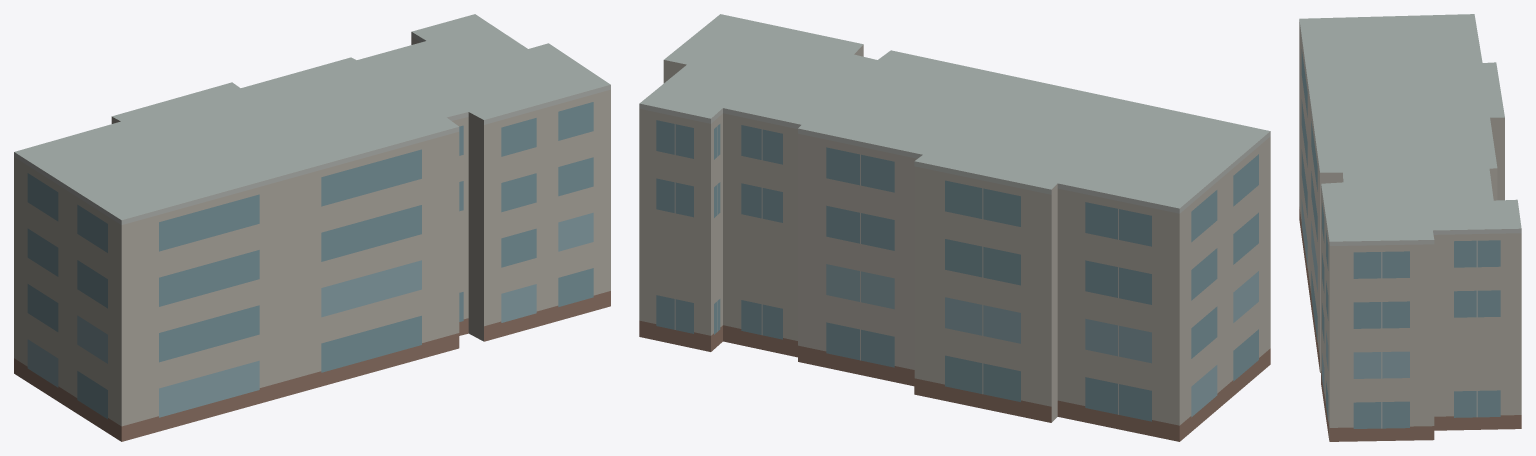
The model's file is survey-upis-32700062.glb.
3 renders of one model, left to right at view 1: azimuth 30°, elevation 25°; view 2: azimuth 150°, elevation 25°; view 3: azimuth 270°, elevation 25°, orthographic. The views are drawn at different scales.
Parts seen in each view (by area): view 1: survey-upis-32700062.tmp; view 2: survey-upis-32700062.tmp; view 3: survey-upis-32700062.tmp.
Boxes of the visible parts, <box> form: survey-upis-32700062.tmp: <box>14,14,610,441</box>; survey-upis-32700062.tmp: <box>639,14,1270,441</box>; survey-upis-32700062.tmp: <box>1299,14,1521,441</box>.
Bounding box in the file's own units: 26.84 × 11 × 11.08.
